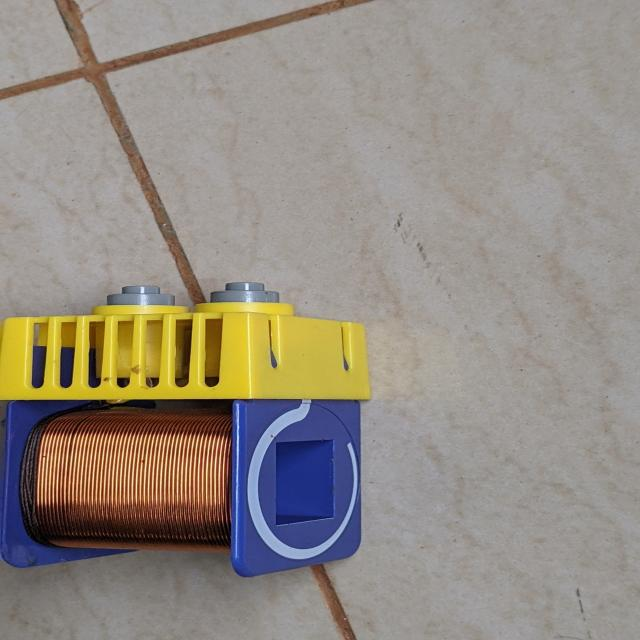Solenoid: (18, 269, 399, 591)
